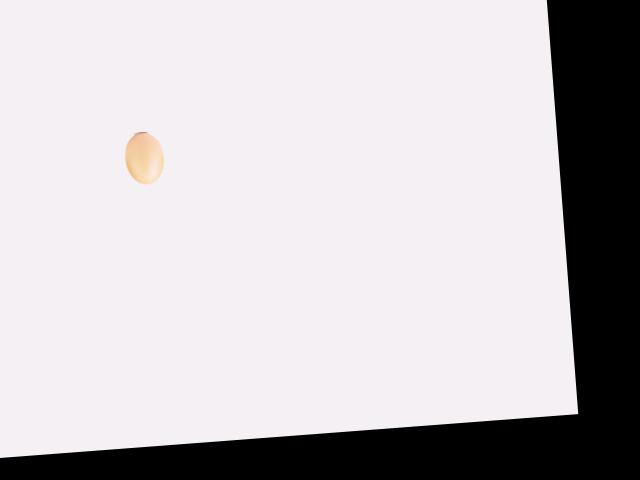egg: (123, 130, 164, 186)
